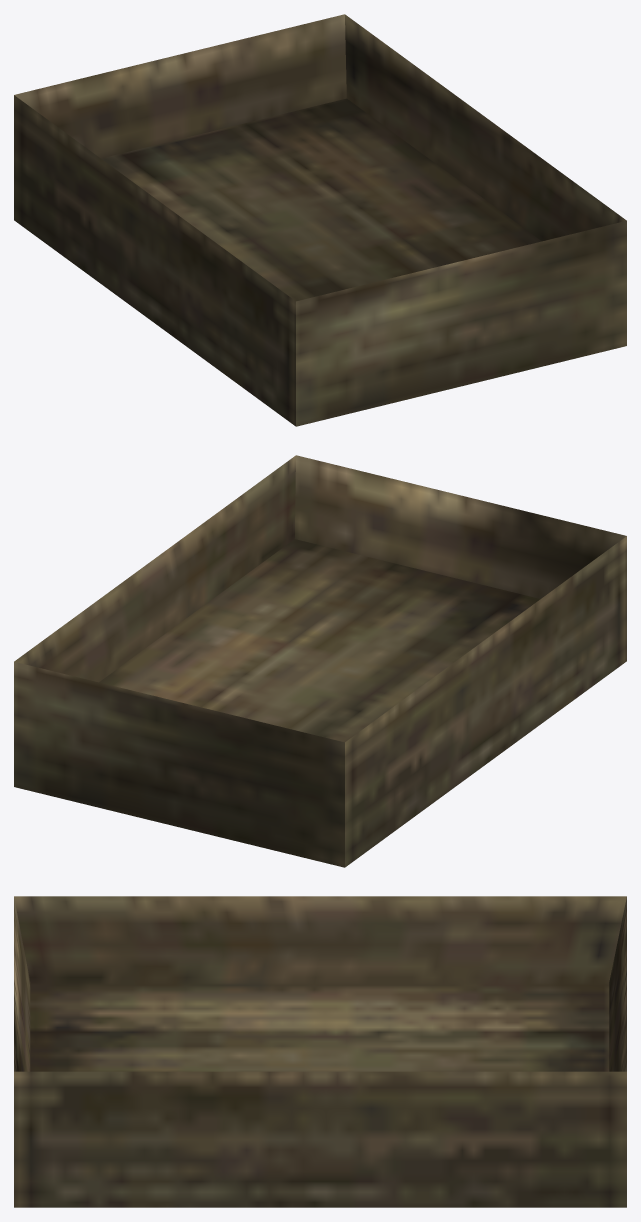
The model's file is OZ_24_ta_case01A.glb.
3 renders of one model, top to bottom at view 1: azimuth 30°, elevation 25°; view 2: azimuth 150°, elevation 25°; view 3: azimuth 270°, elevation 25°, orthographic. The views are drawn at different scales.
Visible parts, largest first — view 1: OM_24_ta_case01A; view 2: OM_24_ta_case01A; view 3: OM_24_ta_case01A.
Boxes of the visible parts, box(x1,y1,x2,y2) form: OM_24_ta_case01A: box(14, 14, 626, 426); OM_24_ta_case01A: box(14, 455, 626, 867); OM_24_ta_case01A: box(14, 896, 626, 1207).
Size of the model in its own units: 0.3866 by 0.1399 by 0.5709.
1 material, 1 textured.
